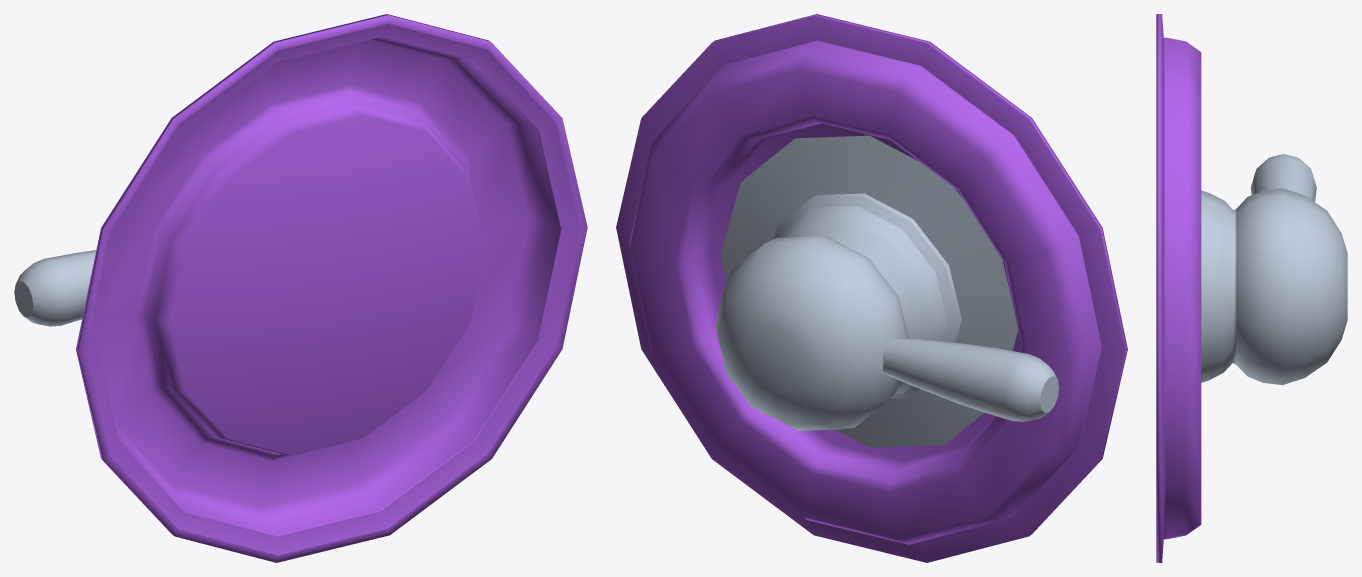
File: Friday_BathtubHANDLE.fbx
The picture shows the model from 3 angles, left to right: view 1: azimuth 30°, elevation 25°; view 2: azimuth 150°, elevation 25°; view 3: azimuth 270°, elevation 25°; orthographic projection. The views are drawn at different scales.
Parts seen in each view (by area): view 1: Bathtub_Handle, Handle; view 2: Bathtub_Handle, On, Handle; view 3: On, Bathtub_Handle, Handle.
Part boxes in pixels (x1=…): Bathtub_Handle: x1=76, y1=14, x2=587, y2=562; Handle: x1=14, y1=250, x2=96, y2=326; Bathtub_Handle: x1=616, y1=14, x2=1127, y2=562; On: x1=715, y1=135, x2=1018, y2=447; Handle: x1=883, y1=337, x2=1059, y2=421; On: x1=1201, y1=188, x2=1347, y2=385; Bathtub_Handle: x1=1156, y1=14, x2=1201, y2=562; Handle: x1=1250, y1=154, x2=1316, y2=201.
Bounding box in the file's own units: 13.95 × 13.6 × 4.75.
